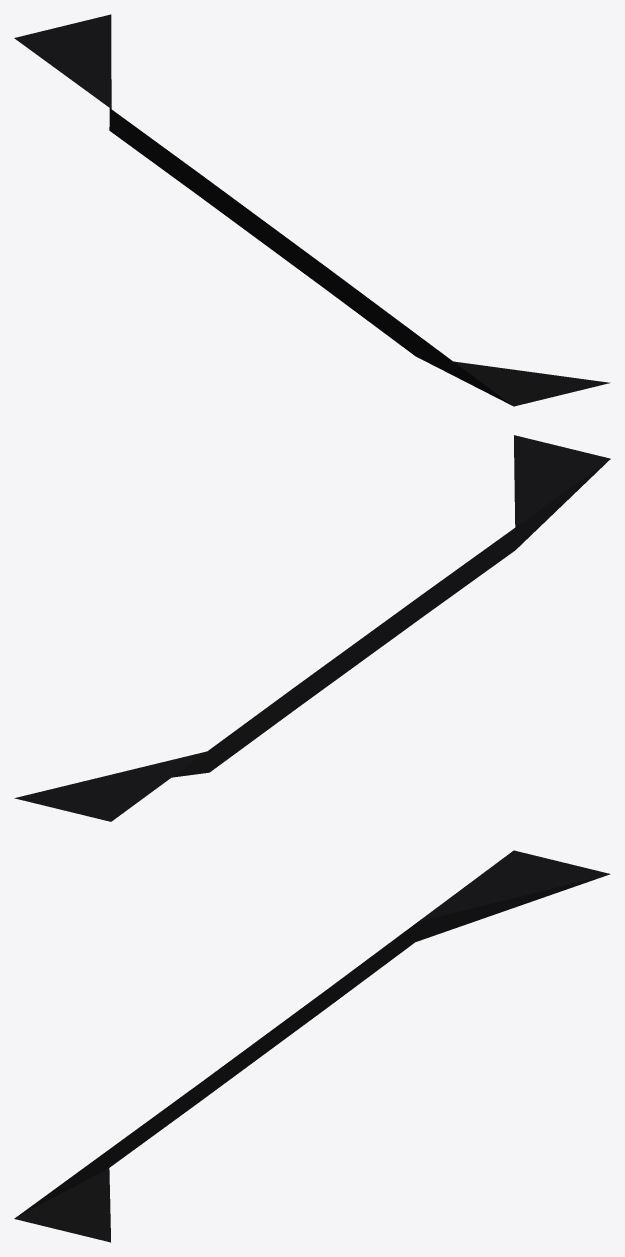
Rendered from skirt_L_skirt.glb.
3 renders of one model, top to bottom at view 1: azimuth 30°, elevation 25°; view 2: azimuth 150°, elevation 25°; view 3: azimuth 330°, elevation 25°, orthographic.
Parts seen in each view (by area): view 1: skirt_L_skirt; view 2: skirt_L_skirt; view 3: skirt_L_skirt.
Boxes of the visible parts, x1=… form: skirt_L_skirt: x1=14, y1=14, x2=610, y2=406; skirt_L_skirt: x1=14, y1=435, x2=610, y2=821; skirt_L_skirt: x1=14, y1=850, x2=610, y2=1242.
Bounding box in the file's own units: 0.2233 × 0.0496 × 1.96.
Materials: 1 (1 with a texture image).
